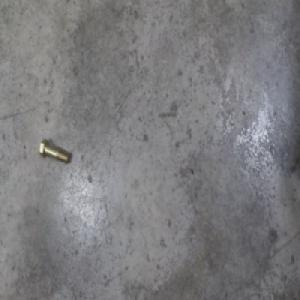Bolt: (39, 139, 70, 167)
